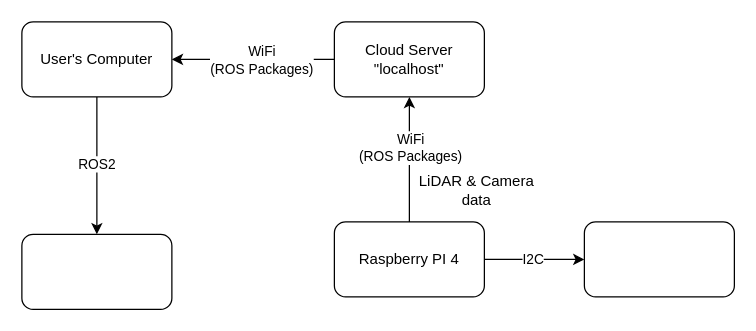
The diagram is 756 pixels wide and 331 high, and some of its shapes have lost their labels. The centre of each missing label's shape, as x and y in pixels:
"Servo Control-Board" belongs at [658,259].
"SLAM" belongs at [96,271].
